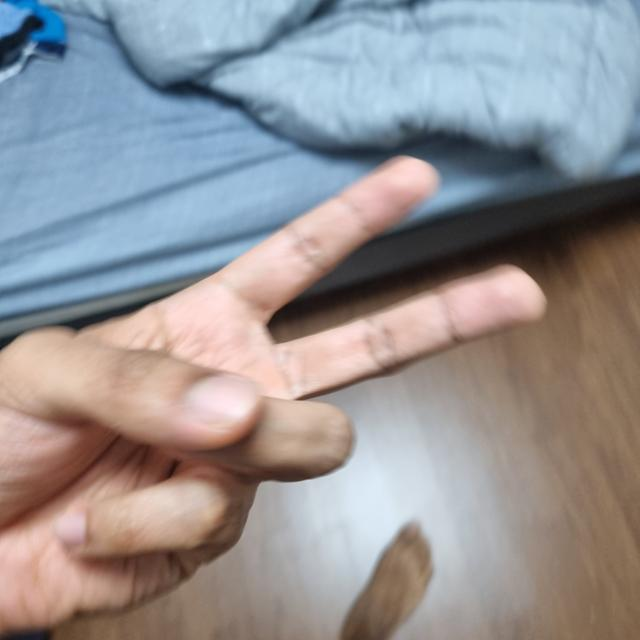Scissors: (0, 166, 527, 636)
